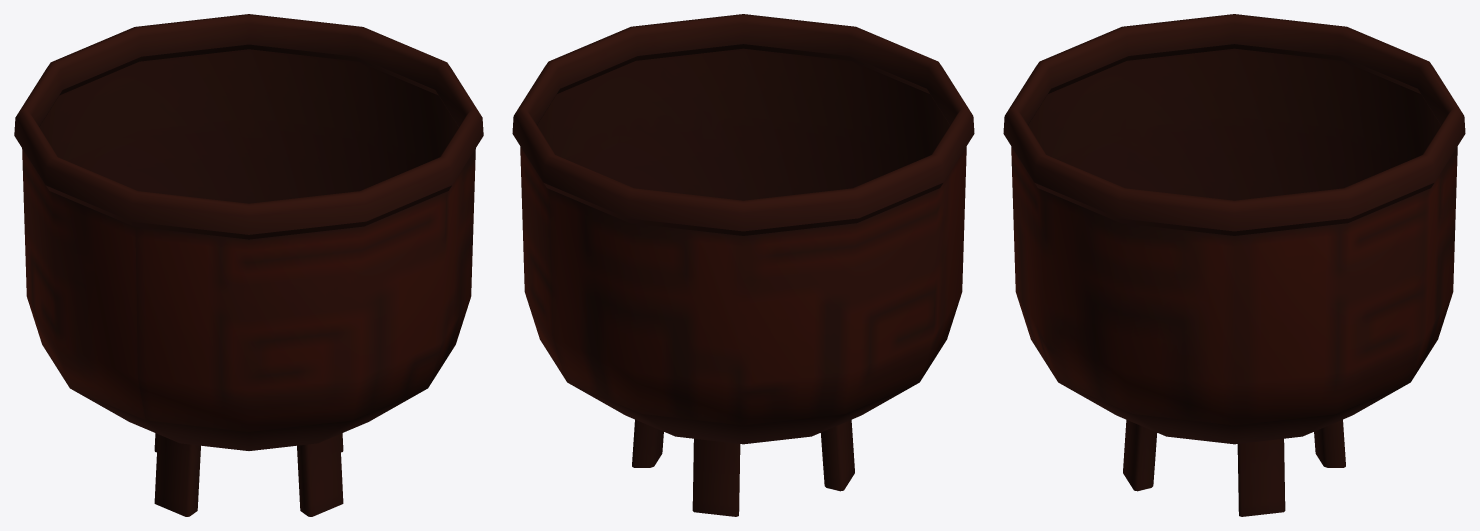
File: Pot4.FBX
The picture shows the model from 3 angles, left to right: view 1: azimuth 30°, elevation 25°; view 2: azimuth 150°, elevation 25°; view 3: azimuth 270°, elevation 25°; orthographic projection.
Parts seen in each view (by area): view 1: Pot4; view 2: Pot4; view 3: Pot4.
Part boxes in pixels (x1=…): Pot4: x1=14, y1=14, x2=483, y2=516; Pot4: x1=512, y1=14, x2=974, y2=516; Pot4: x1=1003, y1=14, x2=1465, y2=516.
Size of the model in its own units: 1.11 by 0.9601 by 1.11.
